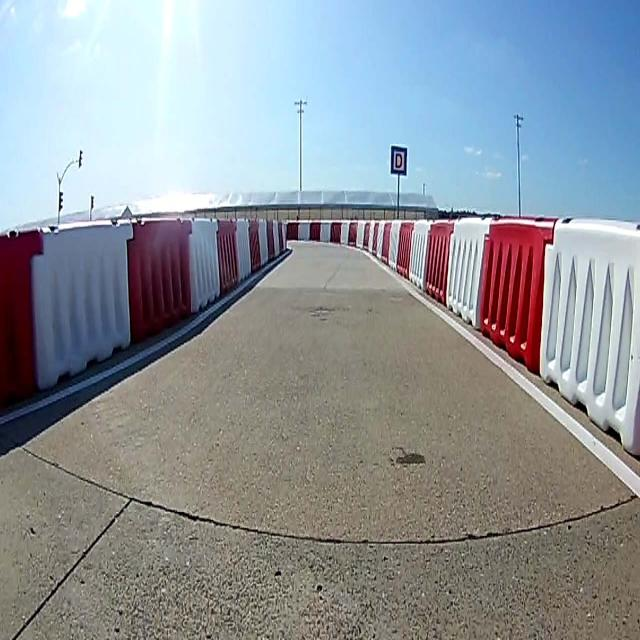durak: (390, 146, 408, 175)
